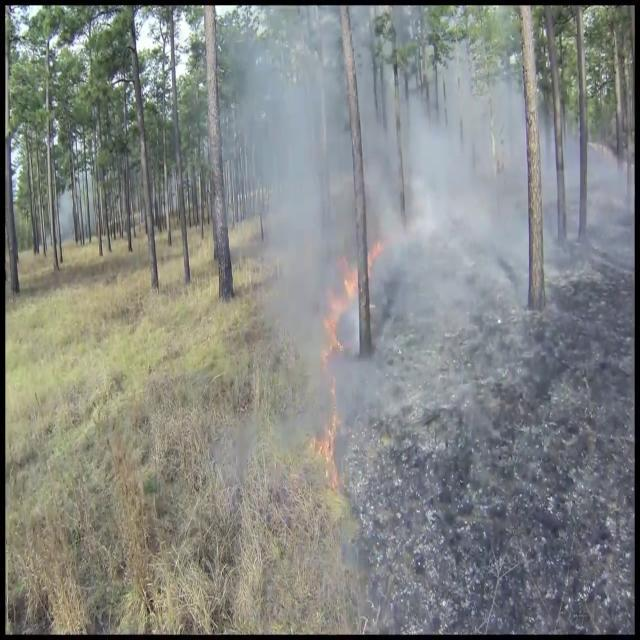Fire: (305, 373, 348, 513)
Smoke: (211, 16, 608, 408)
